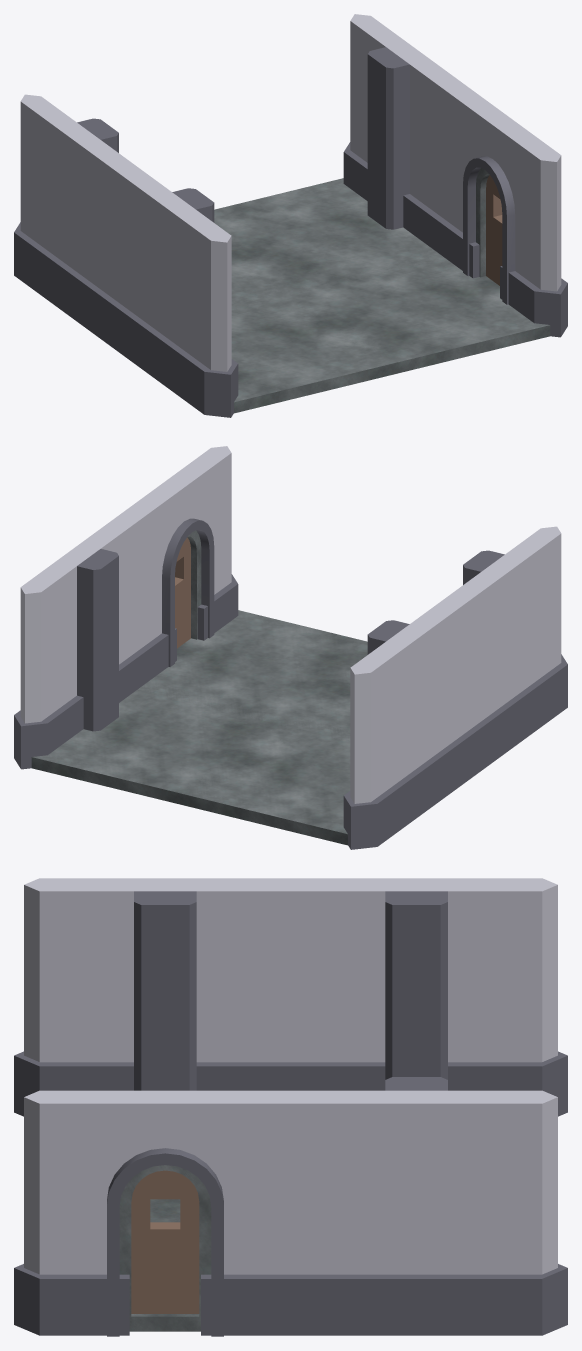
File: hallway_door_01.fbx
3 views of the same model, one above another, from view 1: azimuth 30°, elevation 25°; view 2: azimuth 150°, elevation 25°; view 3: azimuth 270°, elevation 25° (orthographic). The views are drawn at different scales.
Visible parts, largest first — view 1: floor_01_69, wall_02_73, door_01_70, wall_02_74, wall_02_72; view 2: floor_01_69, wall_02_74, wall_02_72, wall_02_73, door_01_70; view 3: wall_02_72, door_01_70, wall_02_73, wall_02_74, floor_01_69.
Part boxes in pixels (box(x1,y1,x2,y2)): floor_01_69: box(214, 178, 550, 413); wall_02_73: box(109, 164, 238, 417); door_01_70: box(439, 83, 567, 337); wall_02_74: box(14, 94, 135, 344); wall_02_72: box(343, 14, 465, 253); floor_01_69: box(31, 610, 367, 845); wall_02_74: box(343, 597, 472, 849); wall_02_72: box(14, 516, 142, 769); wall_02_73: box(446, 526, 567, 776); door_01_70: box(116, 446, 238, 685); wall_02_72: box(275, 1077, 567, 1335); door_01_70: box(14, 1090, 305, 1336); wall_02_73: box(14, 878, 306, 1116); wall_02_74: box(277, 878, 567, 1116); floor_01_69: box(129, 1199, 200, 1331).
Bounding box in the file's own units: 22.15 × 10 × 22.05.
